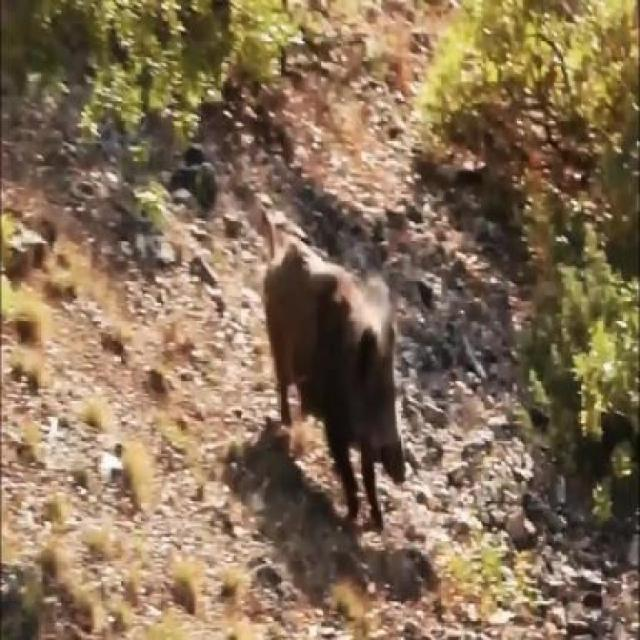pig: (243, 212, 415, 528)
